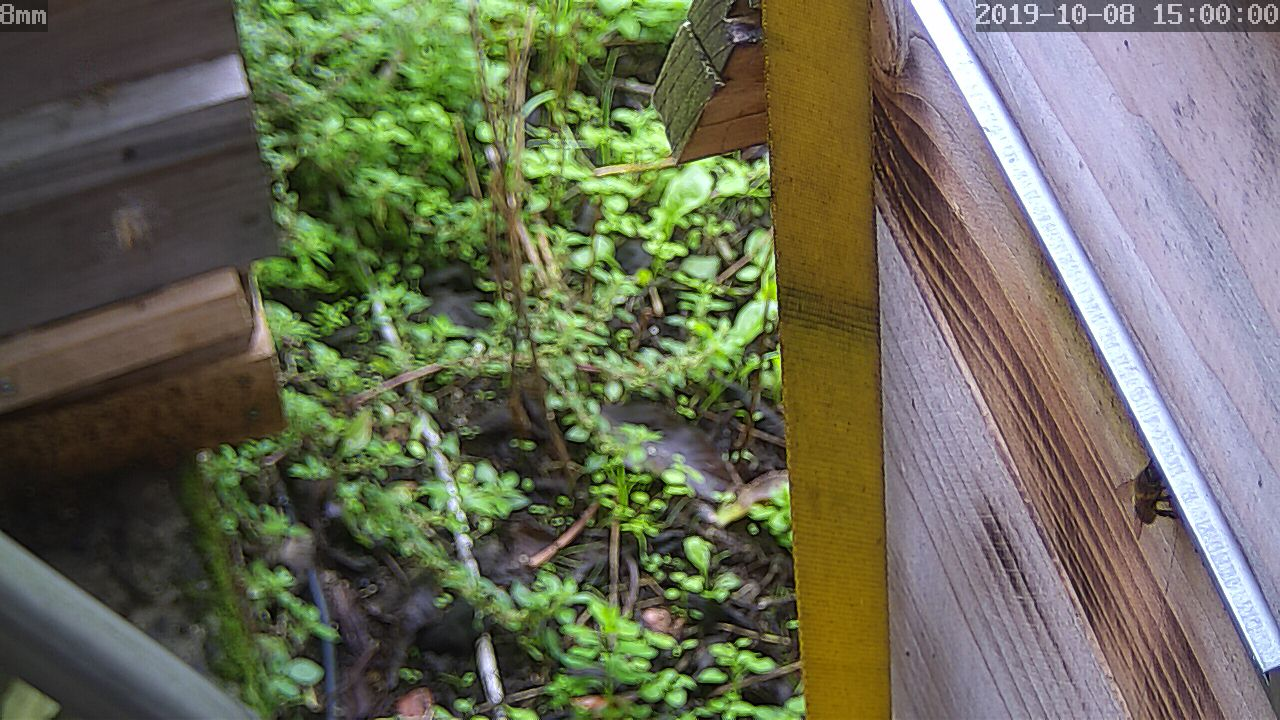bee: (1109, 454, 1188, 533)
